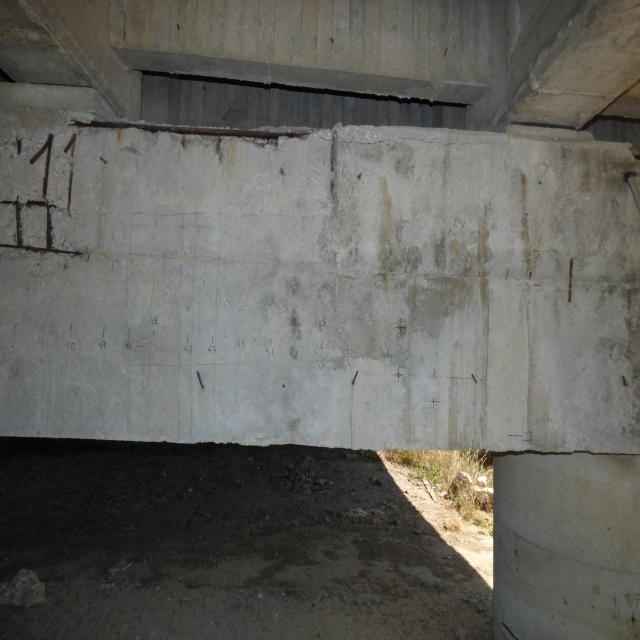corrosion: (0, 134, 102, 264), (73, 119, 300, 157), (325, 130, 342, 199), (562, 256, 579, 304), (189, 365, 210, 395), (350, 366, 365, 393), (276, 162, 289, 178), (619, 374, 630, 390), (468, 372, 479, 386), (526, 270, 535, 281), (504, 268, 512, 280), (354, 171, 362, 182), (330, 37, 334, 45)
